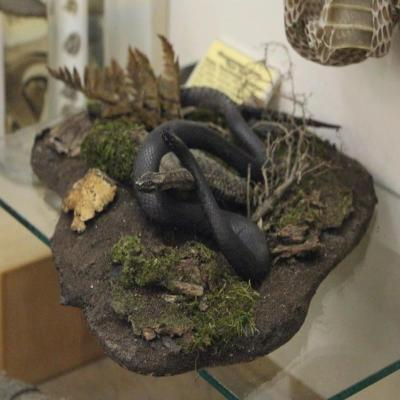natural_science_collection: (131, 104, 342, 284)
